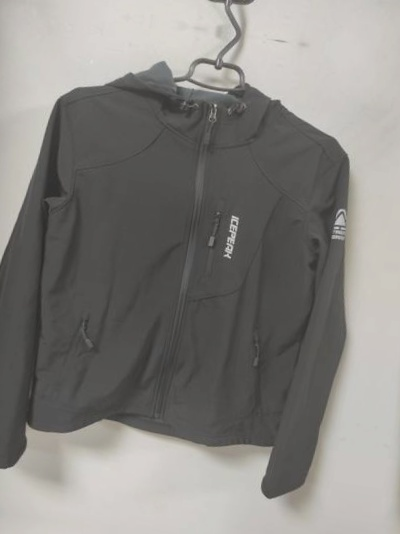Hoodie: (0, 39, 389, 521), (382, 105, 400, 534), (31, 0, 400, 20)
